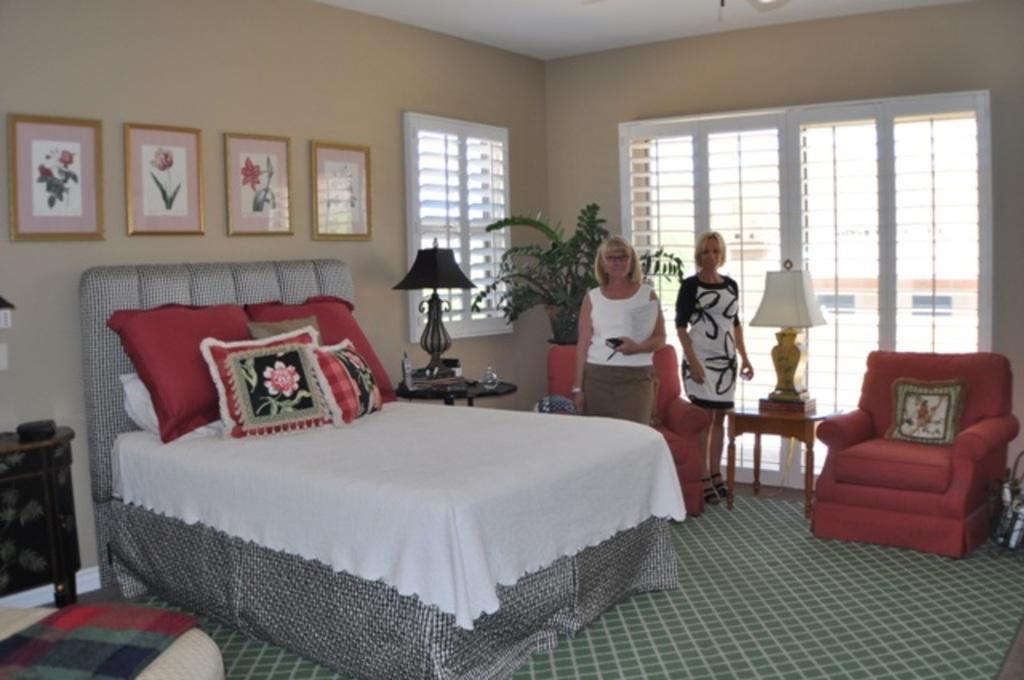Chair: (806, 346, 1021, 560), (547, 344, 723, 514)
